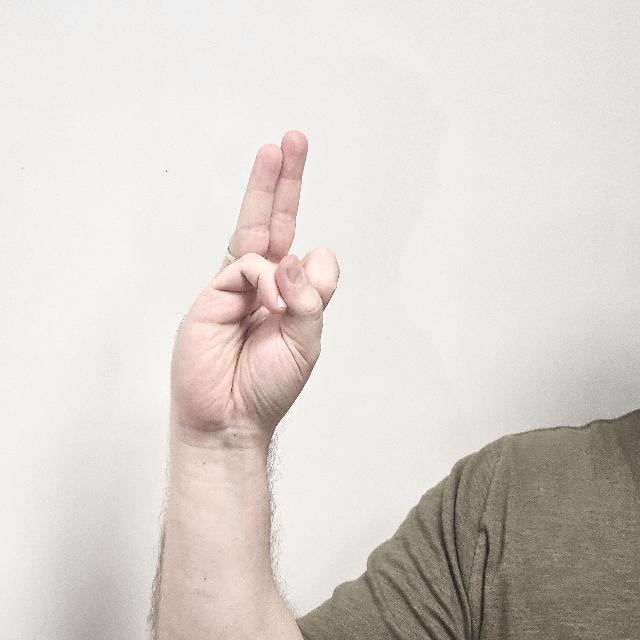R: (172, 130, 340, 560)
